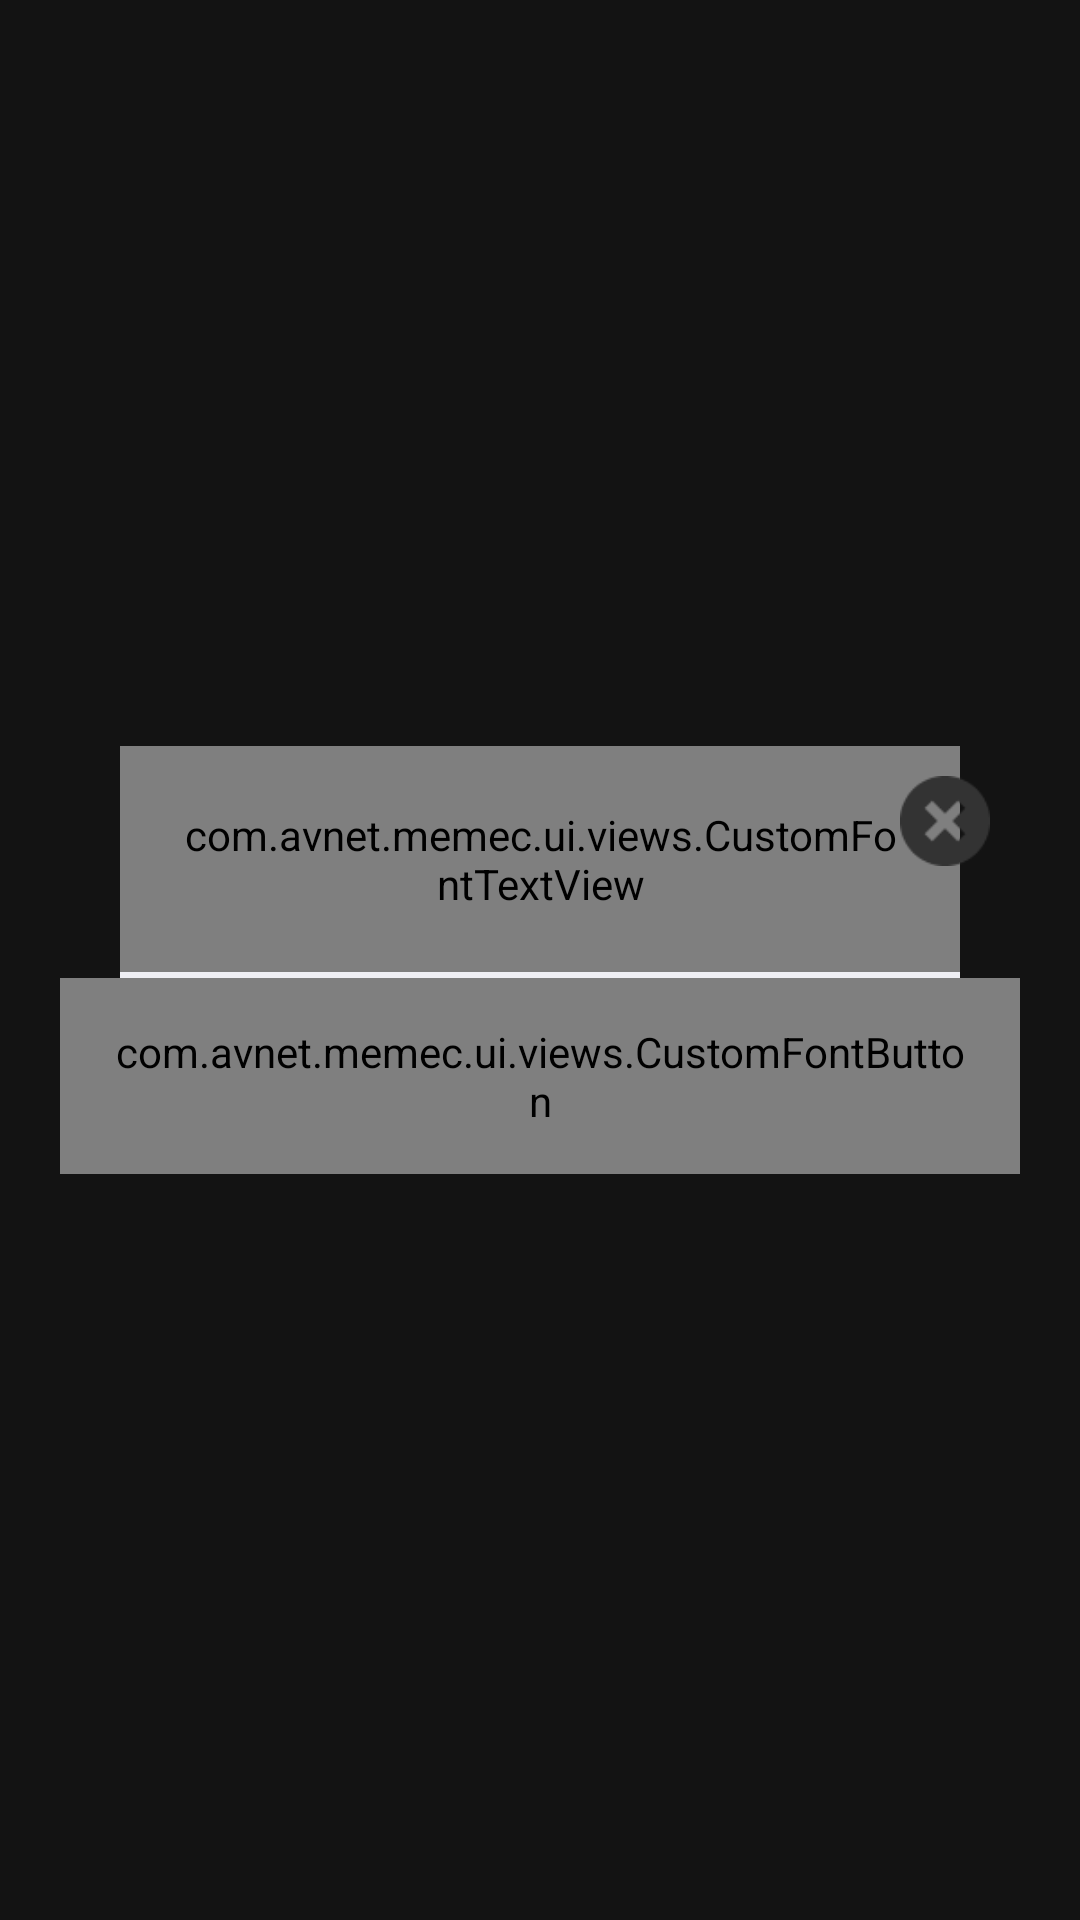

Point at icon controls on the screen. Image size 1080px x 1920px, points as point (x, y).
cancel: point (945, 821)
